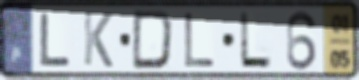6: (285, 8, 319, 73)
D: (130, 8, 176, 72)
K: (81, 10, 114, 70)
L: (238, 10, 274, 70), (38, 11, 73, 69), (182, 11, 217, 69)
